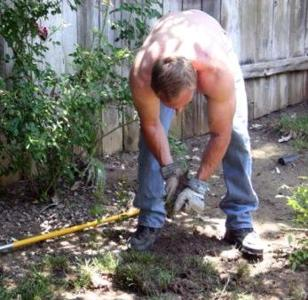person: (130, 10, 264, 259)
